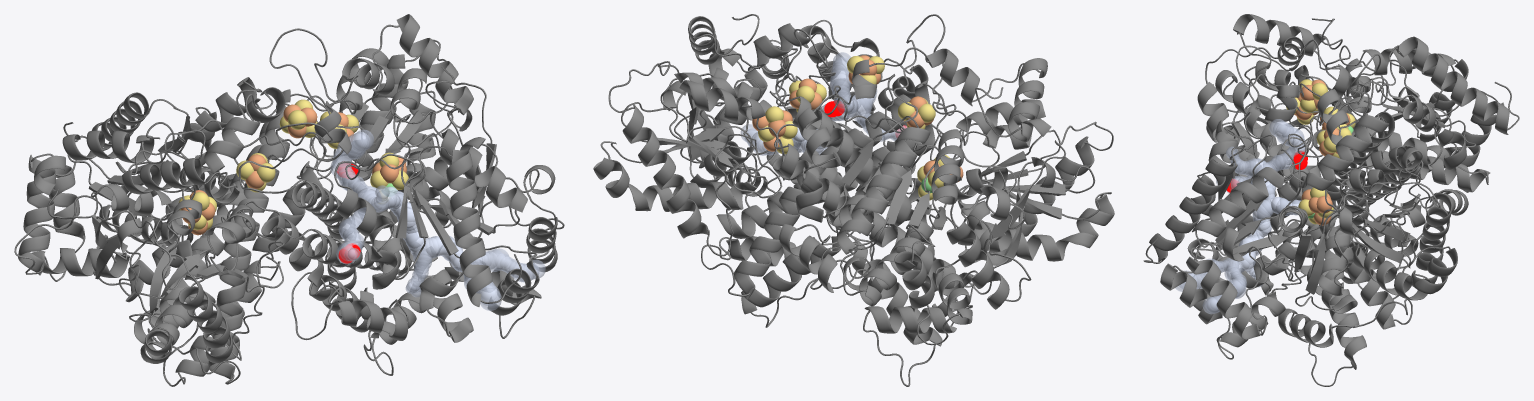
3 renders of one model, left to right at view 1: azimuth 30°, elevation 25°; view 2: azimuth 150°, elevation 25°; view 3: azimuth 270°, elevation 25°, orthographic. The views are drawn at different scales.
Parts seen in each view (by area): view 1: Fixed_Protein_and_Metals, Fixed_Transparent_Tunnel, O2_Trajectory_F2; view 2: Fixed_Protein_and_Metals, Fixed_Transparent_Tunnel; view 3: Fixed_Protein_and_Metals, Fixed_Transparent_Tunnel.
Boxes of the visible parts, bbox=[...] form: Fixed_Protein_and_Metals: bbox=[14, 14, 564, 386]; Fixed_Transparent_Tunnel: bbox=[330, 129, 545, 310]; O2_Trajectory_F2: bbox=[337, 163, 360, 263]; Fixed_Protein_and_Metals: bbox=[593, 14, 1114, 386]; Fixed_Transparent_Tunnel: bbox=[740, 52, 907, 155]; Fixed_Protein_and_Metals: bbox=[1143, 14, 1519, 386]; Fixed_Transparent_Tunnel: bbox=[1175, 119, 1306, 314].
Size of the model in its own units: 96.07 by 68.34 by 76.68.
